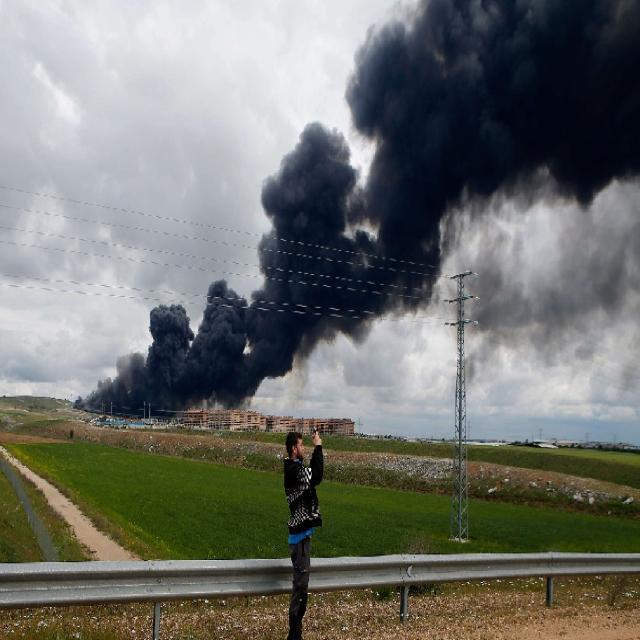Smoke: (62, 92, 386, 415), (348, 7, 628, 245)
